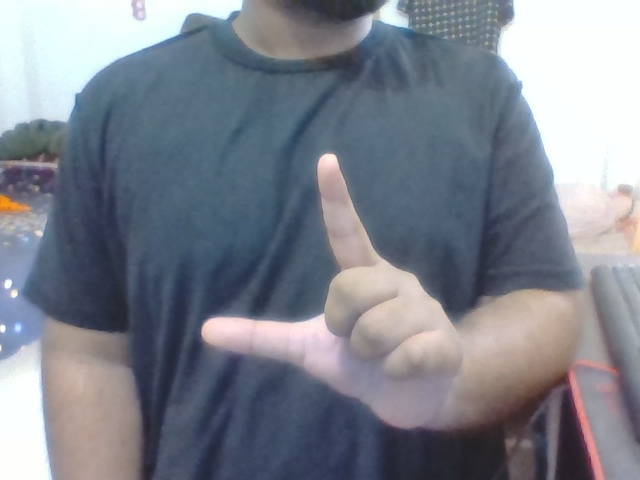L: (162, 148, 481, 431)
